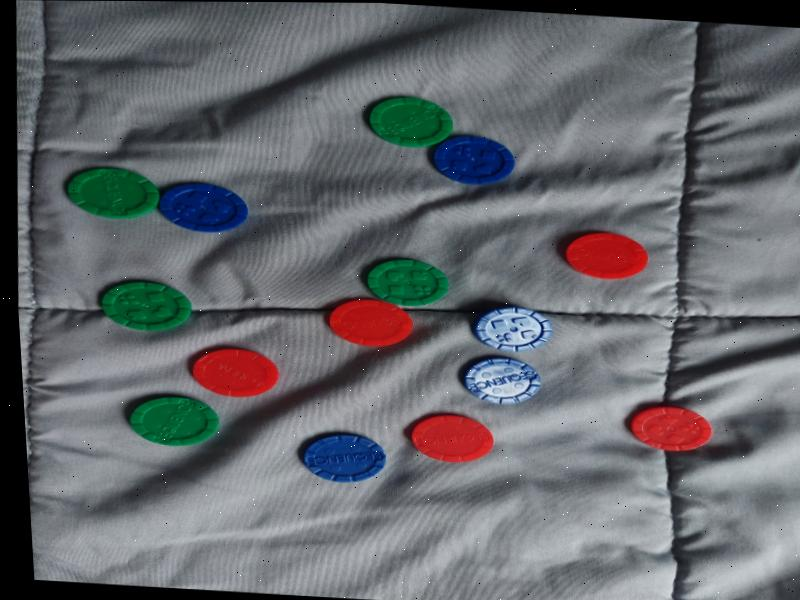Blue_Token: (148, 177, 255, 235), (296, 429, 391, 485), (452, 351, 545, 406), (427, 131, 518, 185), (466, 302, 557, 353)
Green_Token: (117, 389, 226, 450), (91, 274, 200, 334), (60, 161, 163, 221), (360, 91, 457, 150), (356, 254, 454, 308)
Red_Token: (399, 408, 501, 467), (180, 341, 283, 399), (553, 225, 654, 282), (618, 399, 718, 455), (317, 294, 418, 348)
